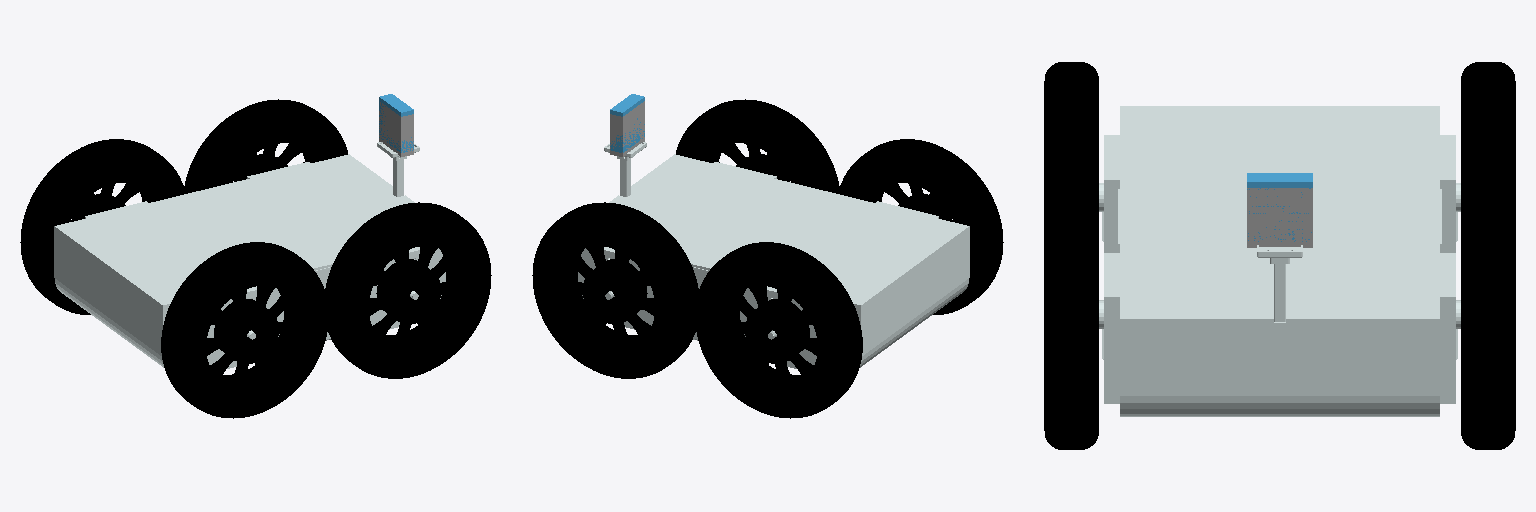
The robot description file, URDF, robot "robot_name":
<?xml version="1.0" ?>
<!-- =================================================================================== -->
<!-- |    This document was autogenerated by xacro from robot.urdf.xacro               | -->
<!-- |    EDITING THIS FILE BY HAND IS NOT RECOMMENDED                                 | -->
<!-- =================================================================================== -->
<robot name="robot_name">
  <material name="blue">
    <color rgba="0 0 0.8 1"/>
  </material>
  <material name="grey">
    <color rgba="0.9 0.95 0.95 1.0"/>
  </material>
  <material name="black">
    <color rgba="0 0 0 1"/>
  </material>
  <material name="green">
    <color rgba="0.0 0.8 0.0 1.0"/>
  </material>
  <!-- Root Link -->
  <link name="base_footprint">
    </link>
  <link name="base_link">
    </link>
  <joint name="base_foot_to_base_link" type="fixed">
    <parent link="base_link"/>
    <child link="base_footprint"/>
    <origin rpy="0.0 0.0 0.0" xyz="0.0 0.0 0.0"/>
  </joint>
  <link name="base">
    <visual>
      <origin rpy="0.0 0.0 0.0" xyz="0.0 0.0 0"/>
      <geometry>
        <mesh filename="package://robot_description/meshes/base.stl" scale="0.3 0.3 0.3"/>
      </geometry>
      <material name="grey"/>
    </visual>
    <collision>
      <geometry>
        <box size="0.228 0.1455 0.054"/>
      </geometry>
    </collision>
    <inertial>
      <mass value="15.0"/>
      <origin rpy="0 0 0" xyz="0 0 0"/>
      <inertia ixx="0.030107812499999997" ixy="0.0" ixz="0.0" iyy="0.068625" iyz="0.0" izz="0.09144281250000001"/>
    </inertial>
  </link>
  <link name="front_right_wheel">
    <visual>
      <origin rpy="0 0 0" xyz="0 0 0"/>
      <geometry>
        <!-- <mesh filename="package://robot_description/meshes/blue_tyre.stl" scale="${scale_stl}" /> -->
        <mesh filename="package://robot_description/meshes/blue_tyre.stl" scale="0.3 0.3 0.3"/>
      </geometry>
      <material name="black"/>
    </visual>
    <collision>
      <origin rpy="1.5708 0 0" xyz="0 0 0"/>
      <geometry>
        <cylinder length="0.03" radius="0.06"/>
        <!-- <mesh filename="package://robot_description/meshes/blue_tyre.stl" scale="${scale_stl}" /> -->
      </geometry>
    </collision>
    <inertial>
      <mass value="1.0"/>
      <origin rpy="0 0 0" xyz="0 0 0"/>
      <inertia ixx="0.0009749999999999998" ixy="0" ixz="0" iyy="0.0018" iyz="0" izz="0.0009749999999999998"/>
    </inertial>
  </link>
  <gazebo reference="front_right_wheel">
    <material>Gazebo/Black</material>
    <mu1 value="0.8"/>
    <mu2 value="0.65"/>
  </gazebo>
  <link name="front_left_wheel">
    <visual>
      <origin rpy="0 0 0" xyz="0 0 0"/>
      <geometry>
        <!-- <mesh filename="package://robot_description/meshes/blue_tyre.stl" scale="${scale_stl}" /> -->
        <mesh filename="package://robot_description/meshes/blue_tyre.stl" scale="0.3 0.3 0.3"/>
      </geometry>
      <material name="black"/>
    </visual>
    <collision>
      <origin rpy="1.5708 0 0" xyz="0 0 0"/>
      <geometry>
        <cylinder length="0.03" radius="0.06"/>
        <!-- <mesh filename="package://robot_description/meshes/blue_tyre.stl" scale="${scale_stl}" /> -->
      </geometry>
    </collision>
    <inertial>
      <mass value="1.0"/>
      <origin rpy="0 0 0" xyz="0 0 0"/>
      <inertia ixx="0.0009749999999999998" ixy="0" ixz="0" iyy="0.0018" iyz="0" izz="0.0009749999999999998"/>
    </inertial>
  </link>
  <gazebo reference="front_left_wheel">
    <material>Gazebo/Black</material>
    <mu1 value="0.8"/>
    <mu2 value="0.65"/>
  </gazebo>
  <link name="rear_right_wheel">
    <visual>
      <origin rpy="0 0 0" xyz="0 0 0"/>
      <geometry>
        <!-- <mesh filename="package://robot_description/meshes/blue_tyre.stl" scale="${scale_stl}" /> -->
        <mesh filename="package://robot_description/meshes/blue_tyre.stl" scale="0.3 0.3 0.3"/>
      </geometry>
      <material name="black"/>
    </visual>
    <collision>
      <origin rpy="1.5708 0 0" xyz="0 0 0"/>
      <geometry>
        <cylinder length="0.03" radius="0.06"/>
        <!-- <mesh filename="package://robot_description/meshes/blue_tyre.stl" scale="${scale_stl}" /> -->
      </geometry>
    </collision>
    <inertial>
      <mass value="1.0"/>
      <origin rpy="0 0 0" xyz="0 0 0"/>
      <inertia ixx="0.0009749999999999998" ixy="0" ixz="0" iyy="0.0018" iyz="0" izz="0.0009749999999999998"/>
    </inertial>
  </link>
  <gazebo reference="rear_right_wheel">
    <material>Gazebo/Black</material>
    <mu1 value="0.8"/>
    <mu2 value="0.65"/>
  </gazebo>
  <link name="rear_left_wheel">
    <visual>
      <origin rpy="0 0 0" xyz="0 0 0"/>
      <geometry>
        <!-- <mesh filename="package://robot_description/meshes/blue_tyre.stl" scale="${scale_stl}" /> -->
        <mesh filename="package://robot_description/meshes/blue_tyre.stl" scale="0.3 0.3 0.3"/>
      </geometry>
      <material name="black"/>
    </visual>
    <collision>
      <origin rpy="1.5708 0 0" xyz="0 0 0"/>
      <geometry>
        <cylinder length="0.03" radius="0.06"/>
        <!-- <mesh filename="package://robot_description/meshes/blue_tyre.stl" scale="${scale_stl}" /> -->
      </geometry>
    </collision>
    <inertial>
      <mass value="1.0"/>
      <origin rpy="0 0 0" xyz="0 0 0"/>
      <inertia ixx="0.0009749999999999998" ixy="0" ixz="0" iyy="0.0018" iyz="0" izz="0.0009749999999999998"/>
    </inertial>
  </link>
  <gazebo reference="rear_left_wheel">
    <material>Gazebo/Black</material>
    <mu1 value="0.8"/>
    <mu2 value="0.65"/>
  </gazebo>
  <!-- Joints remain the same -->
  <joint name="base_link_to_base" type="fixed">
    <parent link="base_link"/>
    <child link="base"/>
    <origin rpy="0.0 0.0 0.0" xyz="0.0 0.0 0.06"/>
  </joint>
  <joint name="front_right_wheel_joint" type="continuous">
    <origin rpy="0 0 0" xyz="0.063 -0.105 0"/>
    <parent link="base"/>
    <child link="front_right_wheel"/>
    <axis xyz="0 1 0"/>
  </joint>
  <joint name="front_left_wheel_joint" type="continuous">
    <origin rpy="0 0 3.1415926" xyz="0.063 0.105 0"/>
    <parent link="base"/>
    <child link="front_left_wheel"/>
    <axis xyz="0 -1 0"/>
  </joint>
  <joint name="rear_right_wheel_joint" type="continuous">
    <origin rpy="0 0 0" xyz="-0.063 -0.105 0"/>
    <parent link="base"/>
    <child link="rear_right_wheel"/>
    <axis xyz="0 1 0"/>
  </joint>
  <joint name="rear_left_wheel_joint" type="continuous">
    <origin rpy="0 0 -3.1415926" xyz="-0.063 0.105 0"/>
    <parent link="base"/>
    <child link="rear_left_wheel"/>
    <axis xyz="0 -1 0"/>
  </joint>
  <joint name="depth_camera_joint" type="fixed">
    <parent link="base"/>
    <child link="depth_camera_link"/>
    <origin rpy="0 0 0" xyz="0.109 0 0.072"/>
  </joint>
  <link name="depth_camera_link">
    <visual>
      <geometry>
        <box size="0.010 0.03 0.03"/>
      </geometry>
      <material name="red"/>
    </visual>
  </link>
  <joint name="depth_camera_optical_joint" type="fixed">
    <parent link="depth_camera_link"/>
    <child link="depth_camera_link_optical"/>
    <origin rpy="-1.5707963267948966 0 -1.5707963267948966" xyz="0 0 0"/>
  </joint>
  <link name="depth_camera_link_optical"/>
  <gazebo reference="depth_camera_link">
    <material>Gazebo/Red</material>
    <sensor name="depth_camera" type="depth_camera">
      <pose> 0 0 0 0 0 0 </pose>
      <visualize>true</visualize>
      <update_rate>10</update_rate>
      <camera>
        <camera_info_topic>depth_camera/camera_info</camera_info_topic>
        <horizontal_fov>1.089</horizontal_fov>
        <image>
          <format>R_FLOAT32</format>
          <width>640</width>
          <height>480</height>
        </image>
        <clip>
          <near>0.05</near>
          <far>8.0</far>
        </clip>
      </camera>
      <depth_camera>
        <output>depths</output>
      </depth_camera>
      <topic>depth_camera/depth</topic>
      <gz_frame_id>depth_camera_link_optical</gz_frame_id>
    </sensor>
  </gazebo>
  <joint name="camera_joint" type="fixed">
    <parent link="base"/>
    <child link="camera_link"/>
    <origin rpy="0 0 0" xyz="0.109 0 0.075"/>
  </joint>
  <link name="camera_link">
    <visual>
      <geometry>
        <box size="0.010 0.03 0.03"/>
      </geometry>
      <material name="red"/>
    </visual>
  </link>
  <joint name="camera_optical_joint" type="fixed">
    <parent link="camera_link"/>
    <child link="camera_link_optical"/>
    <origin rpy="-1.5707963267948966 0 -1.5707963267948966" xyz="0 0 0"/>
  </joint>
  <link name="camera_link_optical"/>
  <gazebo reference="camera_link">
    <material>Gazebo/Red</material>
    <sensor name="camera" type="camera">
      <pose> 0 0 0 0 0 0 </pose>
      <visualize>true</visualize>
      <update_rate>10</update_rate>
      <camera>
        <camera_info_topic>camera/camera_info</camera_info_topic>
        <horizontal_fov>1.089</horizontal_fov>
        <image>
          <format>B8G8R8</format>
          <width>640</width>
          <height>480</height>
        </image>
        <clip>
          <near>0.05</near>
          <far>8.0</far>
        </clip>
      </camera>
      <topic>camera/image_raw</topic>
      <gz_frame_id>camera_link_optical</gz_frame_id>
    </sensor>
  </gazebo>
  <!-- adapted from https://github.com/joshnewans/articubot_one/blob/new_gazebo/description/gazebo_control.xacro -->
  <gazebo>
    <plugin filename="gz-sim-diff-drive-system" name="gz::sim::systems::DiffDrive">
      <!-- Wheel Information -->
      <left_joint>front_left_wheel_joint</left_joint>
      <left_joint>rear_left_wheel_joint</left_joint>
      <right_joint>front_right_wheel_joint</right_joint>
      <right_joint>rear_right_wheel_joint</right_joint>
      <wheel_separation>0.297</wheel_separation>
      <wheel_radius>0.033</wheel_radius>
      <!-- Limits -->
      <!-- <max_wheel_torque>200</max_wheel_torque> -->
      <max_linear_acceleration>0.33</max_linear_acceleration>
      <!-- Input -->
      <topic>cmd_vel</topic>
      <!-- Output -->
      <frame_id>odom</frame_id>
      <child_frame_id>base_link</child_frame_id>
      <odom_topic>odom</odom_topic>
      <odom_publisher_frequency>30</odom_publisher_frequency>
      <tf_topic>/tf</tf_topic>
    </plugin>
    <plugin filename="gz-sim-joint-state-publisher-system" name="gz::sim::systems::JointStatePublisher">
      <topic>joint_states</topic>
      <joint_name>front_left_wheel_joint</joint_name>
      <joint_name>rear_left_wheel_joint</joint_name>
      <joint_name>front_right_wheel_joint</joint_name>
      <joint_name>rear_right_wheel_joint</joint_name>
    </plugin>
  </gazebo>
  <!-- <xacro:include filename="imu.urdf.xacro" /> -->
  <!-- <xacro:imu /> -->
</robot>

--- Facts derived from the render (not from the file) ---
The picture shows the robot from 3 angles, left to right: view 1: azimuth 30°, elevation 25°; view 2: azimuth 150°, elevation 25°; view 3: azimuth 270°, elevation 25°; orthographic projection.
Robot: robot_name — 11 links, 10 joints (4 continuous, 6 fixed); root link base_link; default pose: every joint at zero.
Visible links, largest first — view 1: base, rear_right_wheel, front_right_wheel, rear_left_wheel, front_left_wheel, depth_camera_link, camera_link; view 2: base, rear_left_wheel, front_left_wheel, rear_right_wheel, front_right_wheel, depth_camera_link, camera_link; view 3: base, front_right_wheel, front_left_wheel, rear_right_wheel, rear_left_wheel, depth_camera_link, camera_link.
Boxes of the visible links, box(x1,y1,x2,y2) form: base: box(54, 142, 445, 368); rear_right_wheel: box(161, 242, 328, 418); front_right_wheel: box(325, 202, 491, 378); rear_left_wheel: box(20, 139, 185, 314); front_left_wheel: box(184, 99, 347, 193); depth_camera_link: box(379, 102, 413, 156); camera_link: box(379, 94, 413, 152); base: box(578, 142, 969, 368); rear_left_wheel: box(695, 242, 862, 418); front_left_wheel: box(532, 202, 698, 378); rear_right_wheel: box(838, 139, 1003, 314); front_right_wheel: box(676, 99, 839, 193); depth_camera_link: box(610, 101, 644, 156); camera_link: box(610, 94, 644, 152); base: box(1099, 106, 1460, 416); front_right_wheel: box(1044, 179, 1098, 449); front_left_wheel: box(1461, 179, 1515, 449); rear_right_wheel: box(1044, 62, 1098, 198); rear_left_wheel: box(1461, 62, 1515, 198); depth_camera_link: box(1247, 188, 1312, 247); camera_link: box(1247, 173, 1312, 241).
Size in the robot's own frame: 0.249 by 0.2137 by 0.1514 metres.
Meshes: 2 distinct files referenced, 5 mesh visuals loaded (2 binary STL).
